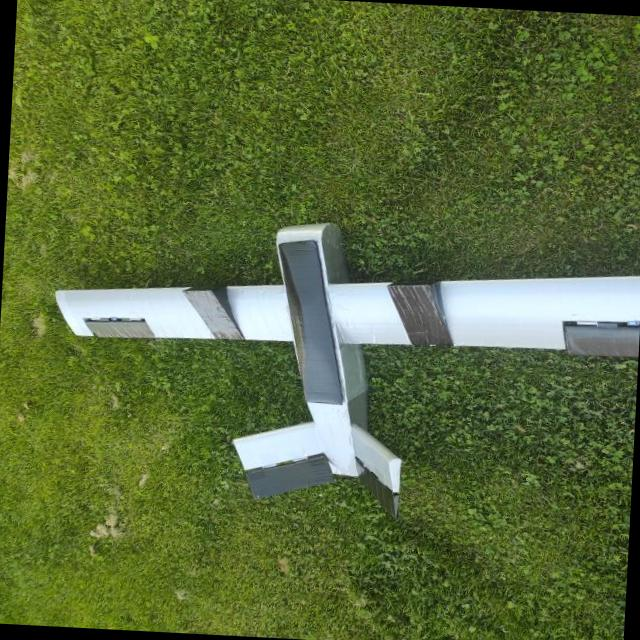UAV: (11, 113, 640, 517)
